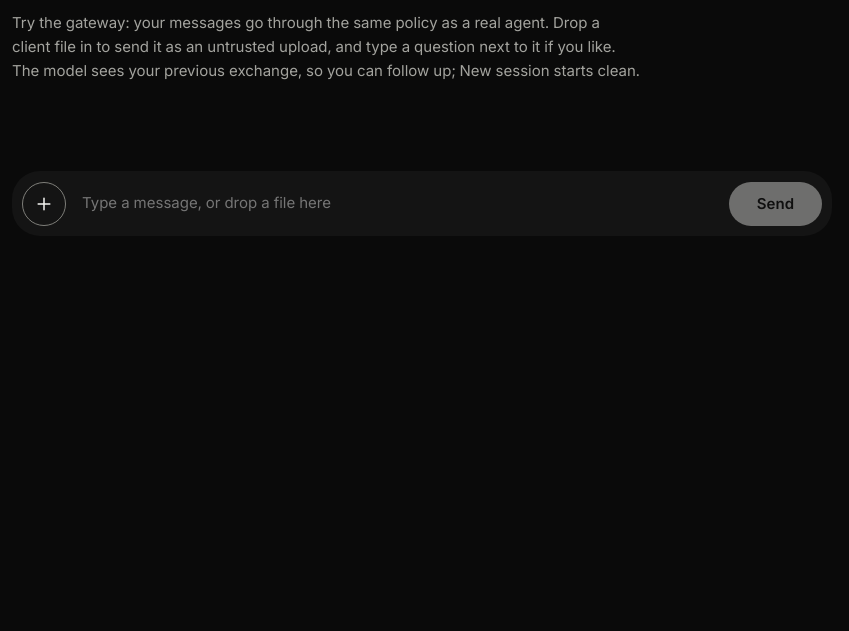
prompts › sends the prompt and shows the message, a plain sentence, route, class, time, score and the reply
In the text box labelled "message": (397, 203) [78, 181, 717, 226], type "What is a sole trader?"
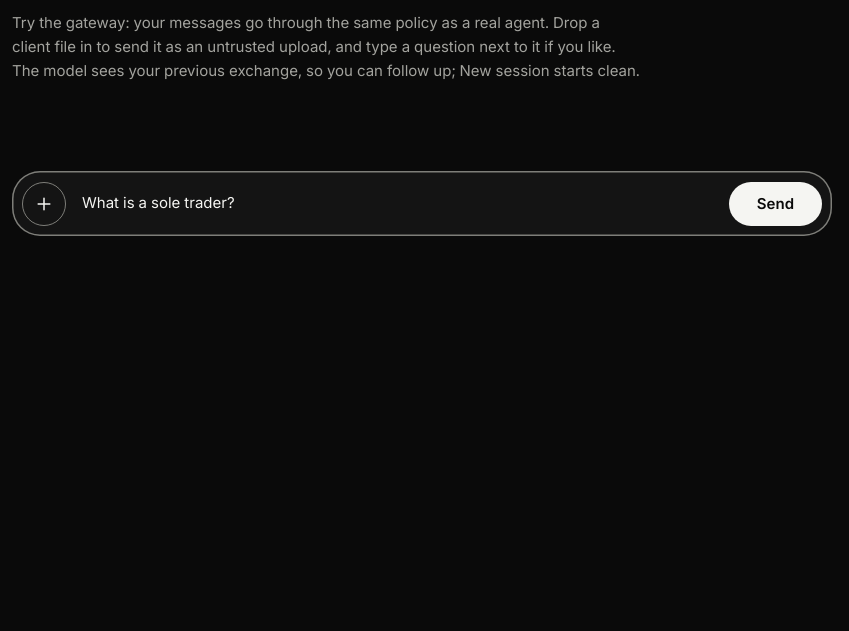
Click the button "Send": click(775, 204) [729, 182, 822, 226]
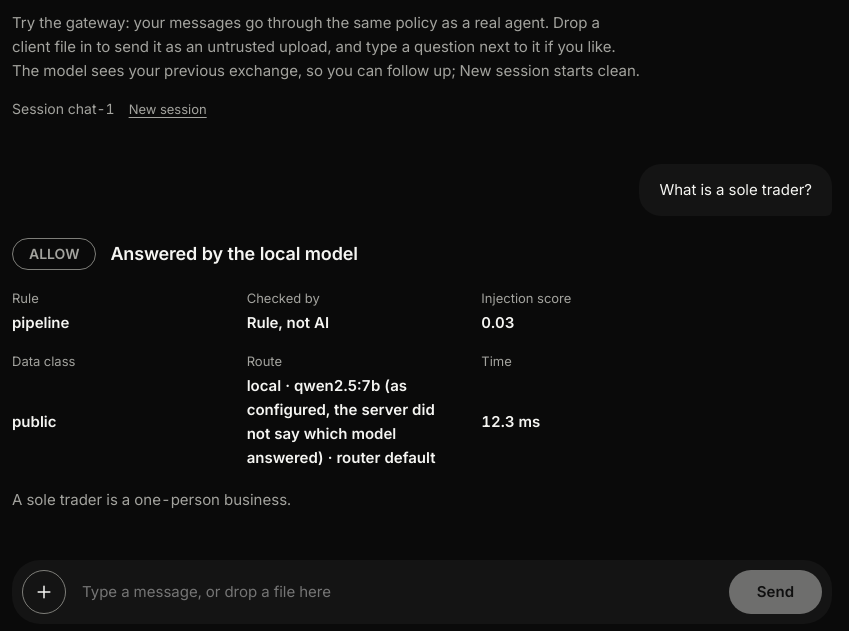
Result: the text "Answered by the local model" is shown at [110, 240, 358, 268]
Result: the text "local · qwen2.5:7b (as configured, the server did not say which model answered) · router default" is shown at [247, 376, 436, 467]
Result: the text "12.3 ms" is shown at [481, 412, 540, 431]
